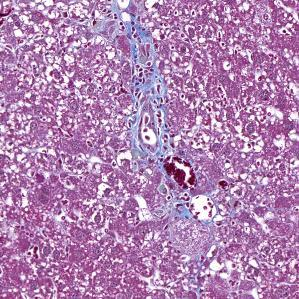fibrosis: (120, 48, 172, 171)
